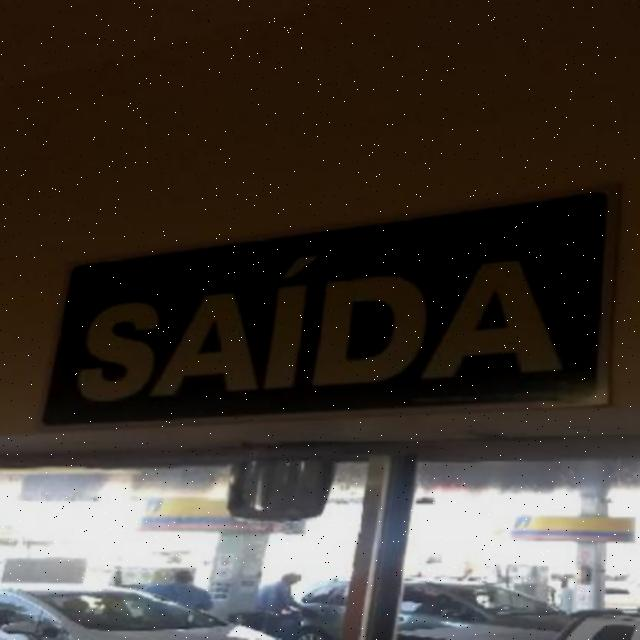emergency_exit: (40, 187, 617, 428)
